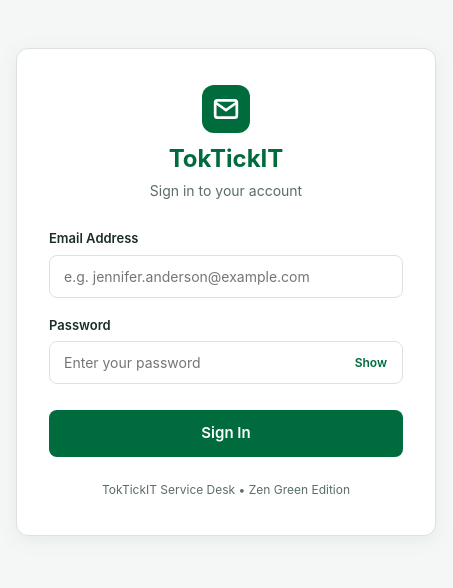
Test: Issue 20: Login Component Tests (Login.test.tsx) › displays error alert banner when authentication fails
Type "unknown@example.com" into the field labelled "Email Address" at (226, 276), box [49, 255, 403, 298]
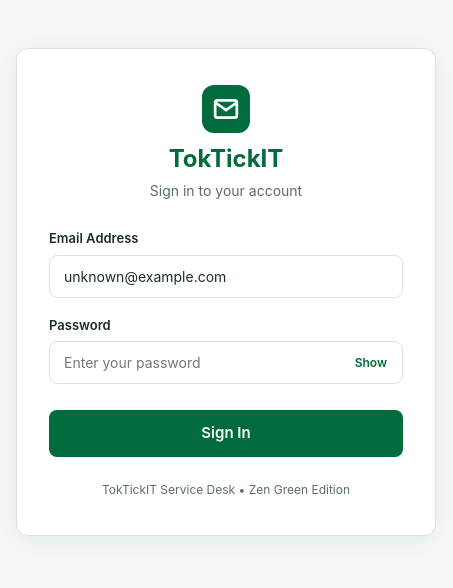
Type "WrongPass123" into the password field with placeholder "Enter your password" at (226, 363), box [49, 341, 403, 384]
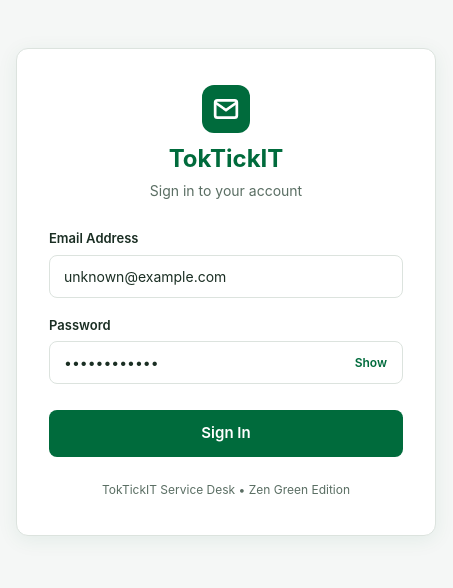
Click the button "Sign In" at (226, 433), box [49, 410, 403, 457]
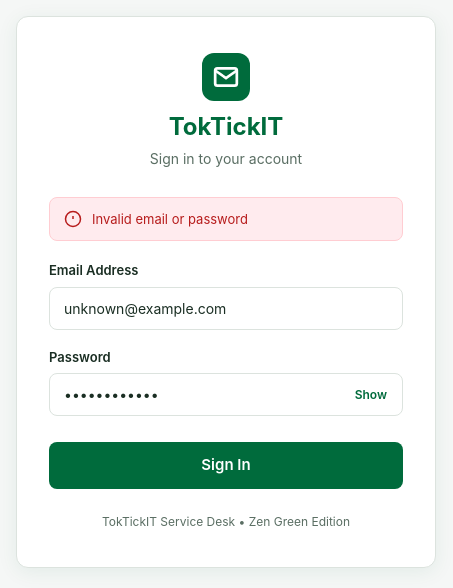
Expected: the message "Invalid email or password" is shown, [49, 197, 403, 241]
Expected: the message reads "Invalid email or password", [92, 211, 248, 227]
